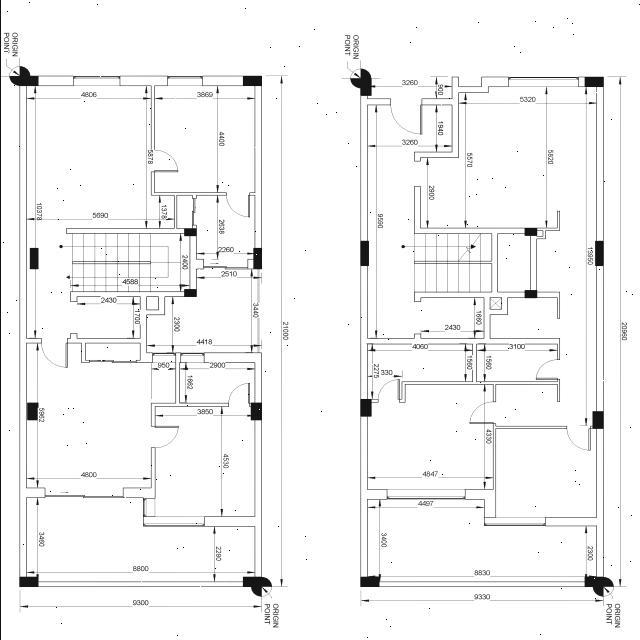Column: (359, 576, 378, 588), (591, 411, 603, 429), (359, 399, 371, 417), (250, 402, 262, 420), (594, 240, 602, 266), (360, 240, 368, 266), (18, 577, 38, 587), (18, 76, 38, 86), (27, 402, 38, 420), (584, 77, 603, 87), (242, 76, 261, 86), (242, 577, 260, 587), (29, 248, 37, 270), (252, 248, 260, 269), (584, 579, 602, 587), (359, 86, 371, 96), (183, 228, 196, 236), (183, 289, 196, 297), (524, 228, 536, 236), (524, 290, 536, 298)
Door: (389, 99, 422, 135), (40, 338, 66, 368), (566, 426, 592, 451), (150, 426, 178, 448), (225, 193, 249, 217), (151, 150, 177, 172), (469, 402, 495, 424), (228, 383, 250, 407), (534, 360, 558, 382), (376, 379, 398, 403)
Sliding Door: (44, 488, 122, 498), (203, 259, 247, 269), (88, 360, 136, 363), (191, 199, 195, 225)
Staircase: (72, 234, 190, 292), (413, 234, 491, 292)
Window: (386, 490, 464, 500), (507, 77, 578, 87), (142, 516, 204, 526), (483, 517, 545, 526), (72, 76, 120, 86), (166, 76, 202, 86), (151, 352, 175, 362), (180, 352, 203, 362), (142, 499, 154, 517)
